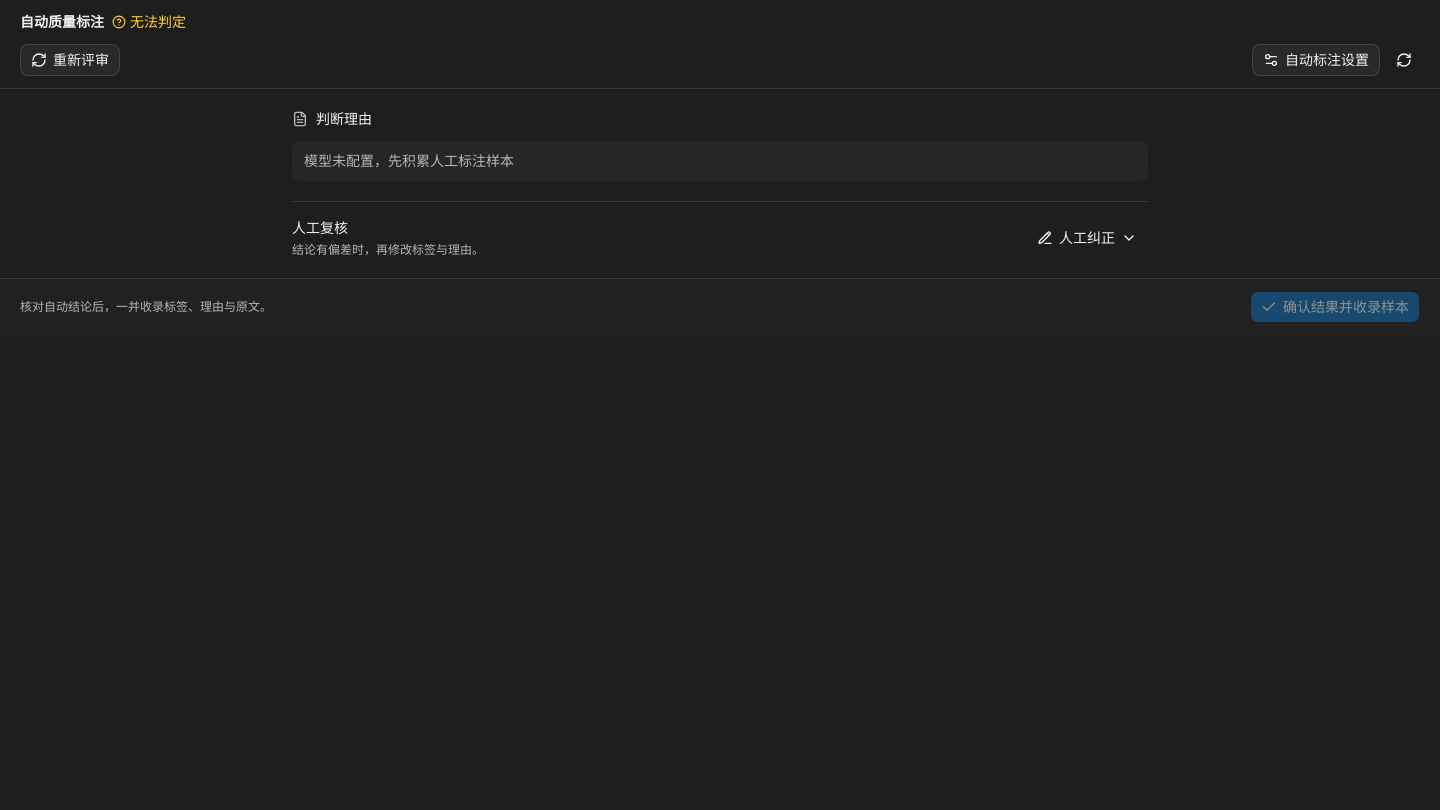
并发版本冲突保留输入并允许重新读取，不覆盖别人的标注
Click the button "人工纠正" at [1087, 238], box [1026,222,1148,254]
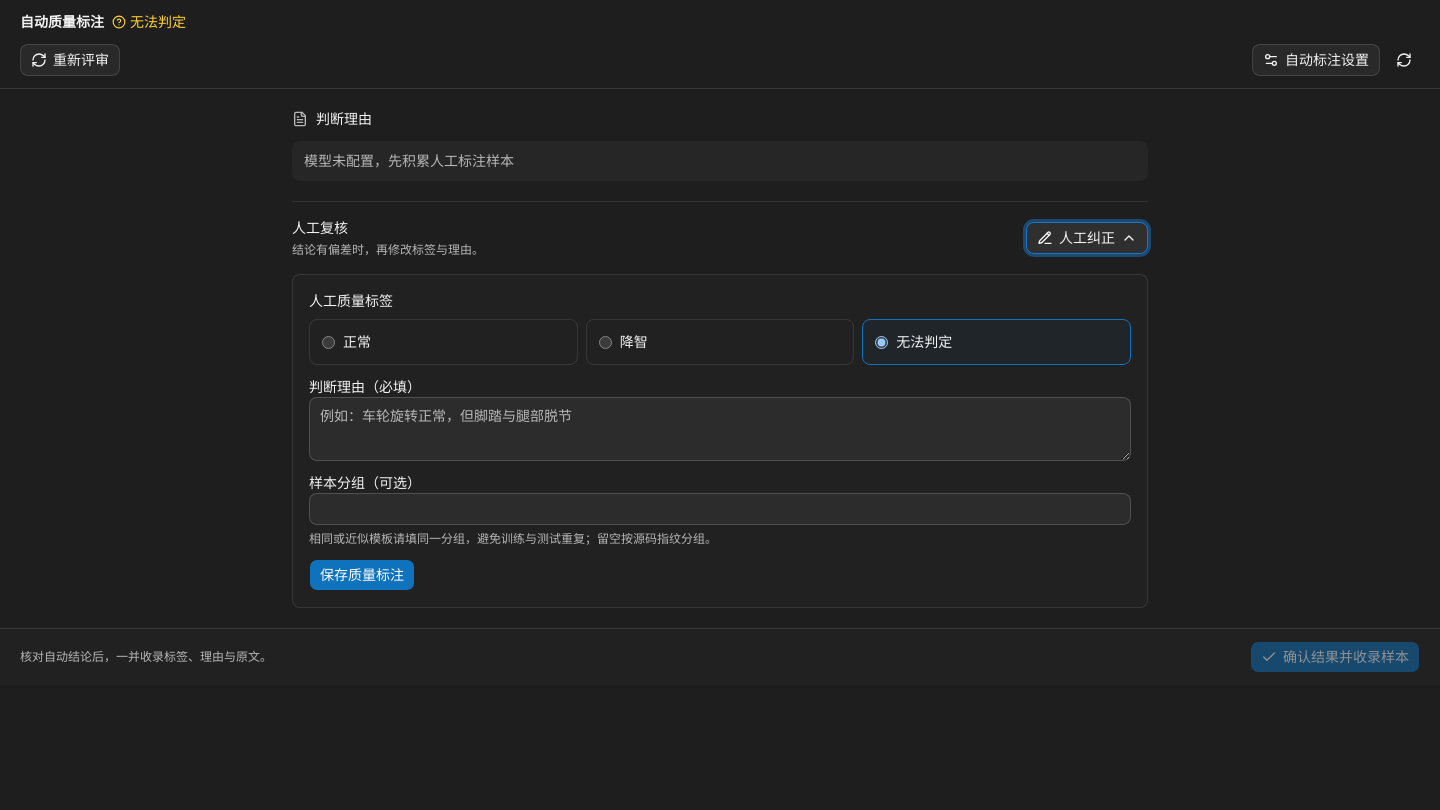
Type "我的判断理由" into the text box labelled "判断理由（必填）" at [720, 429], box [309,397,1131,461]
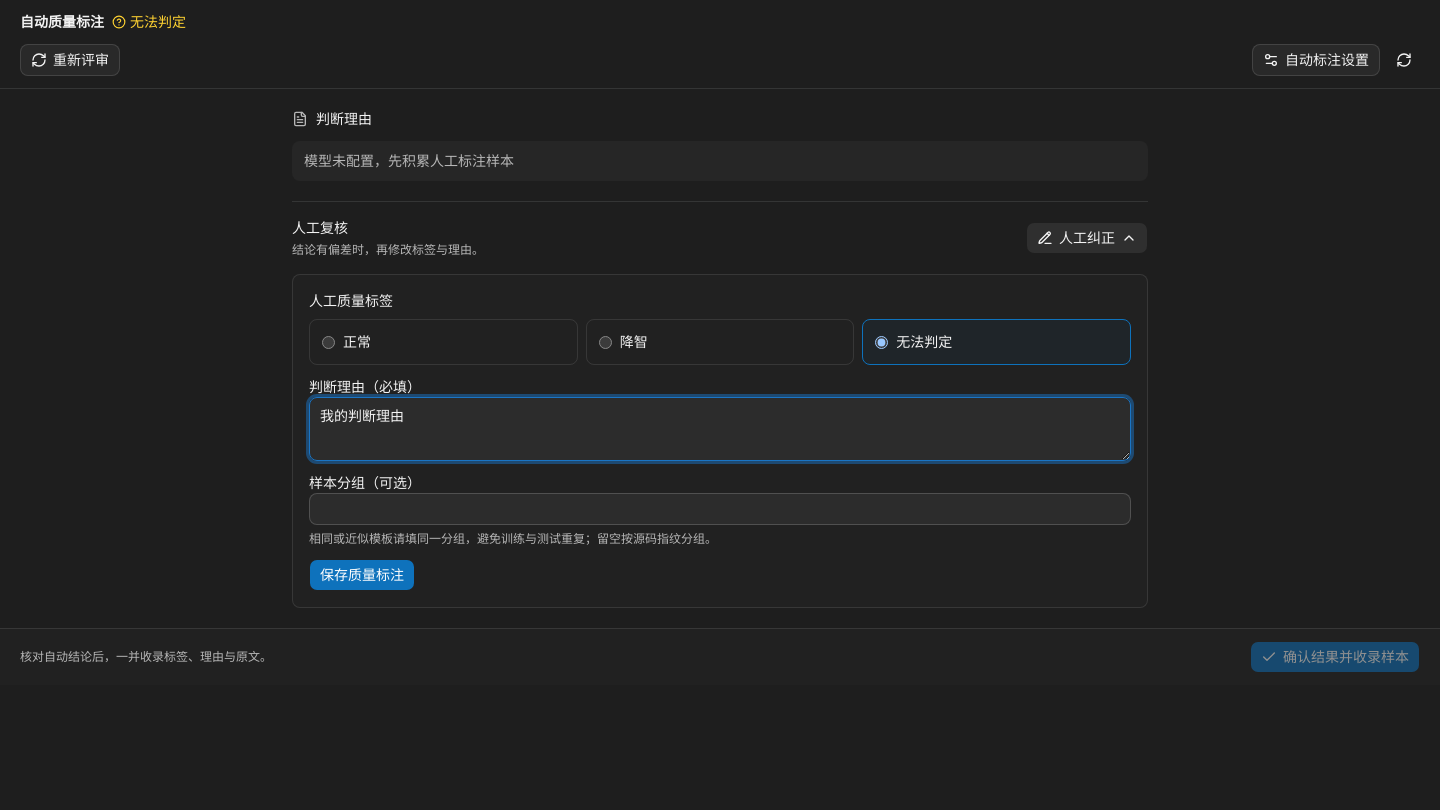
Click the button "保存质量标注" at [362, 575], box [309,559,415,591]
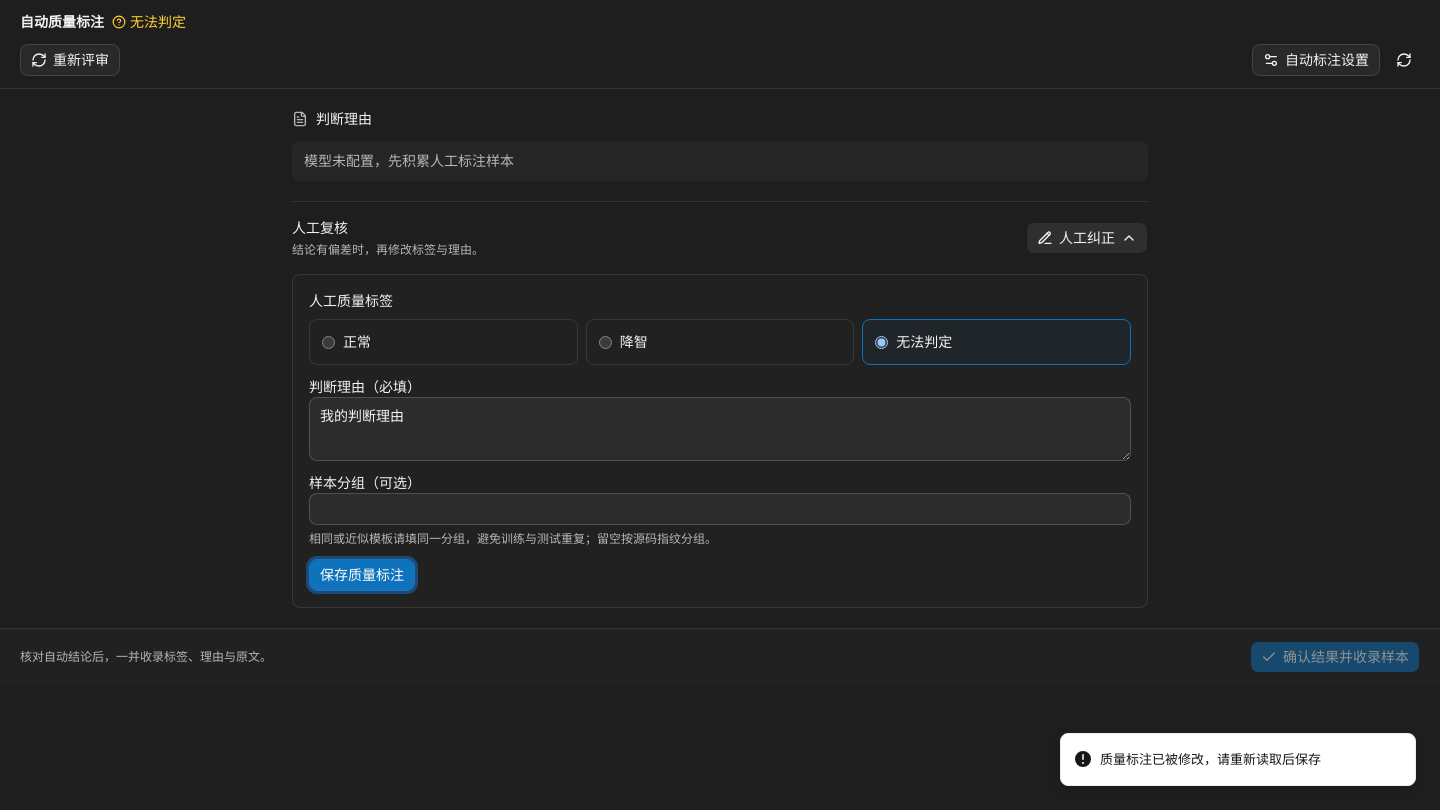
Result: the text "质量标注已被修改，请重新读取后保存" is shown at [1100,750,1321,769]
Click the button named "重新读取标注" at [1404, 60], box [1388,44,1420,76]
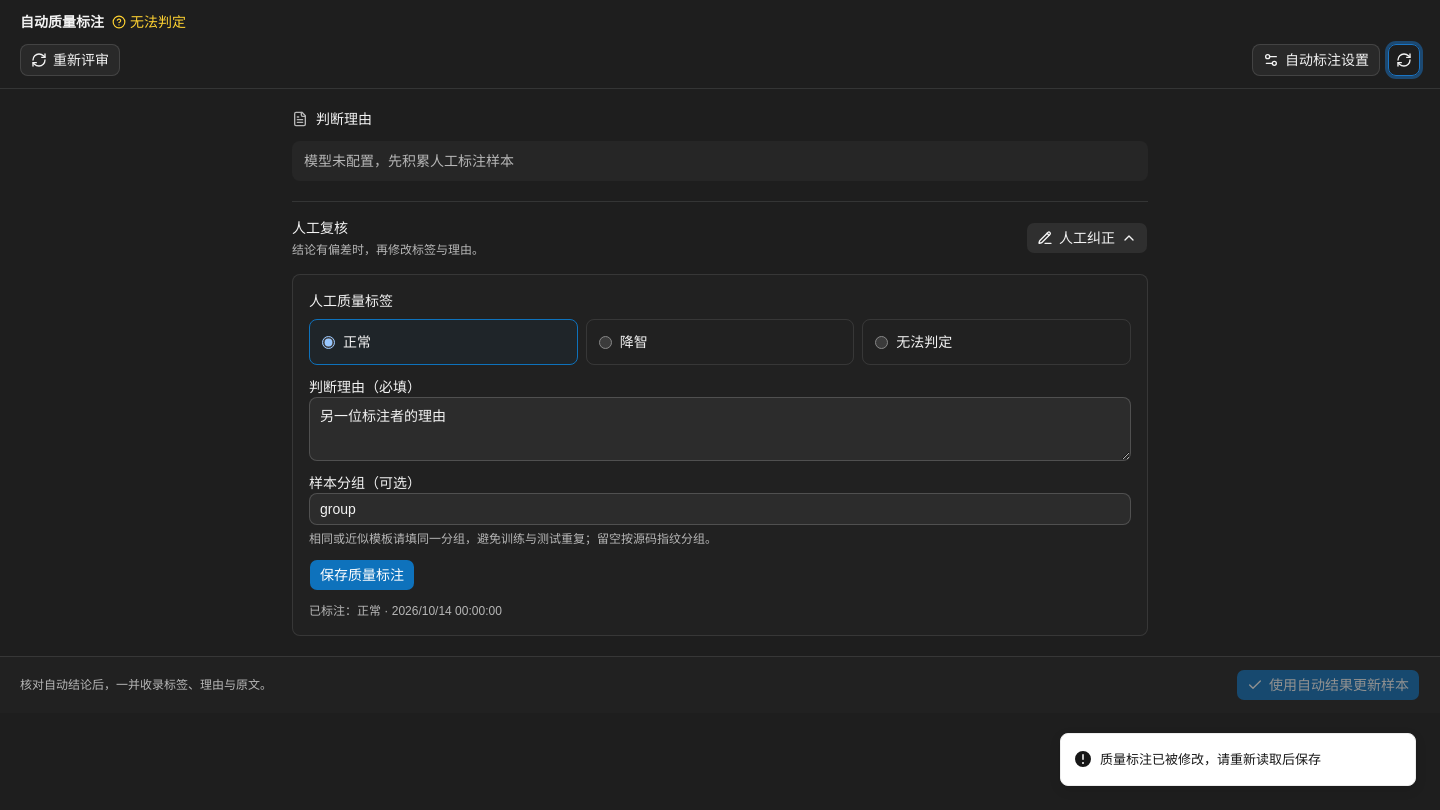
Result: the text box labelled "判断理由（必填）" holds "另一位标注者的理由" at [309,397,1131,461]
